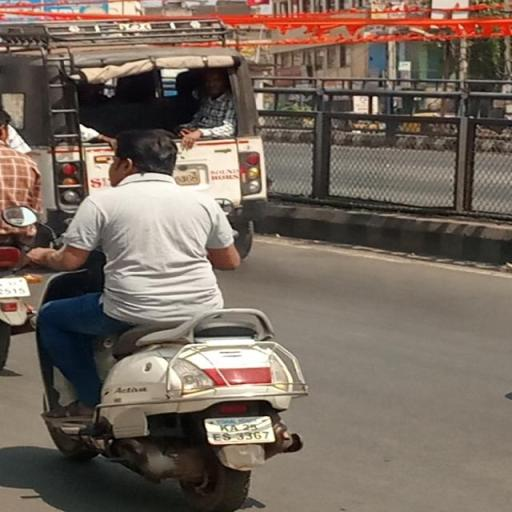bike: (7, 122, 315, 508)
numberplate: (209, 418, 275, 444)
withouthelmet: (114, 129, 177, 177)
